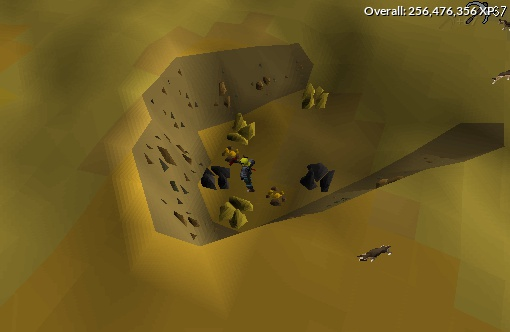depleted: (295, 157, 341, 198), (196, 162, 238, 194)
gold: (213, 194, 265, 238), (296, 76, 336, 123)
